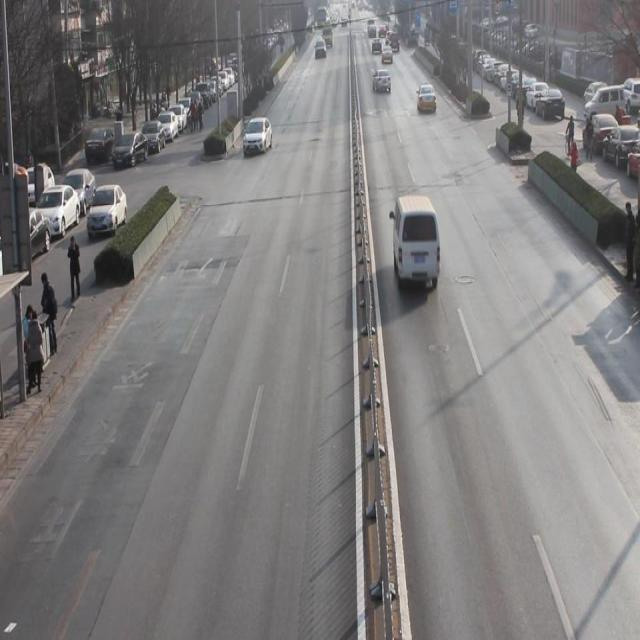car: (244, 113, 273, 152), (418, 81, 439, 116), (371, 66, 393, 94)
truck: (390, 196, 442, 295)
